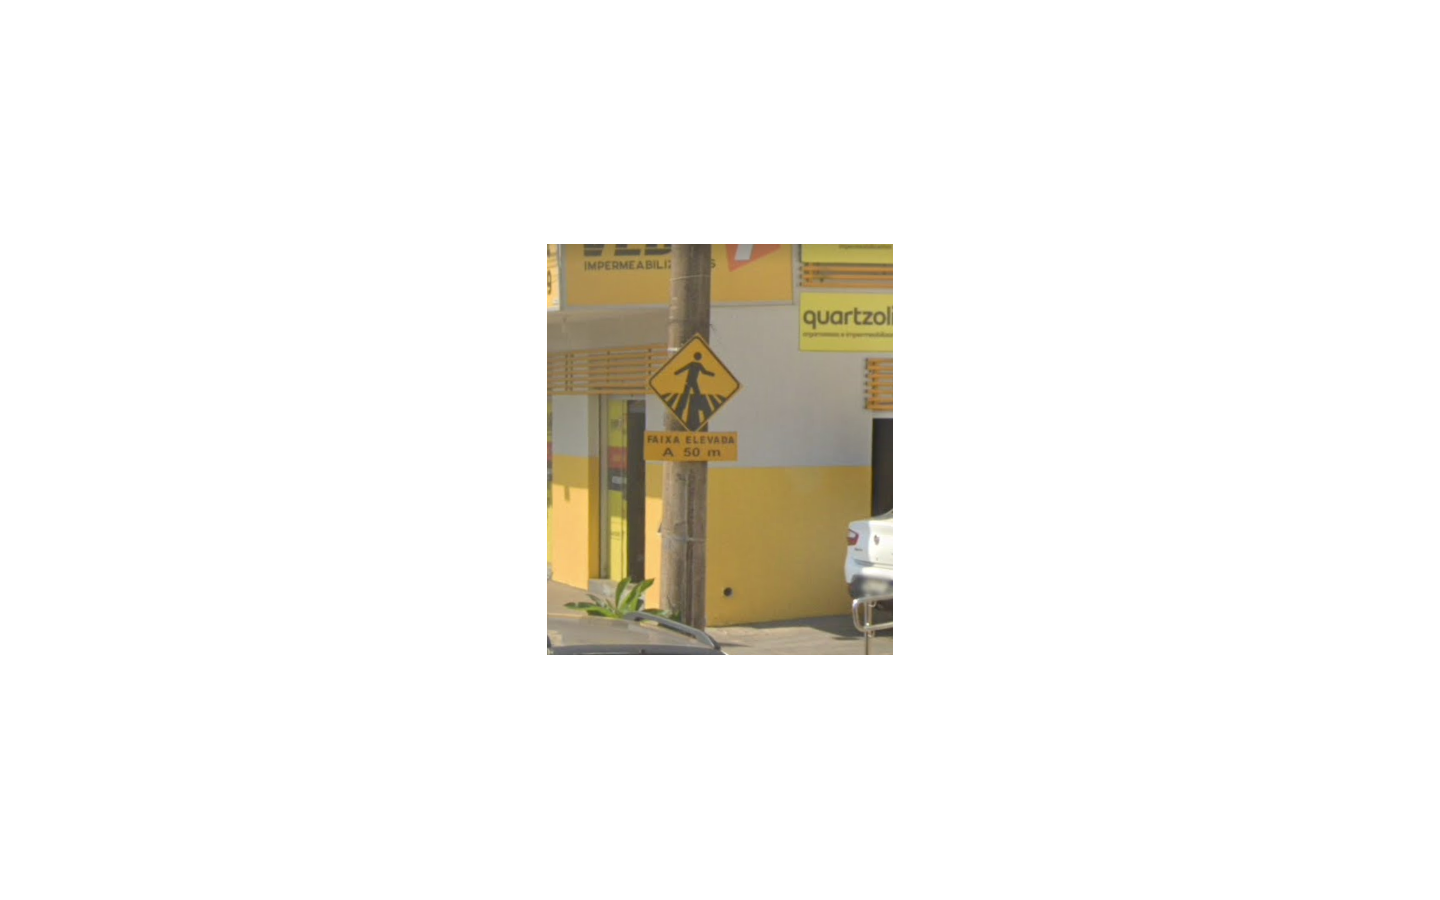t50m: (642, 332, 741, 461)
